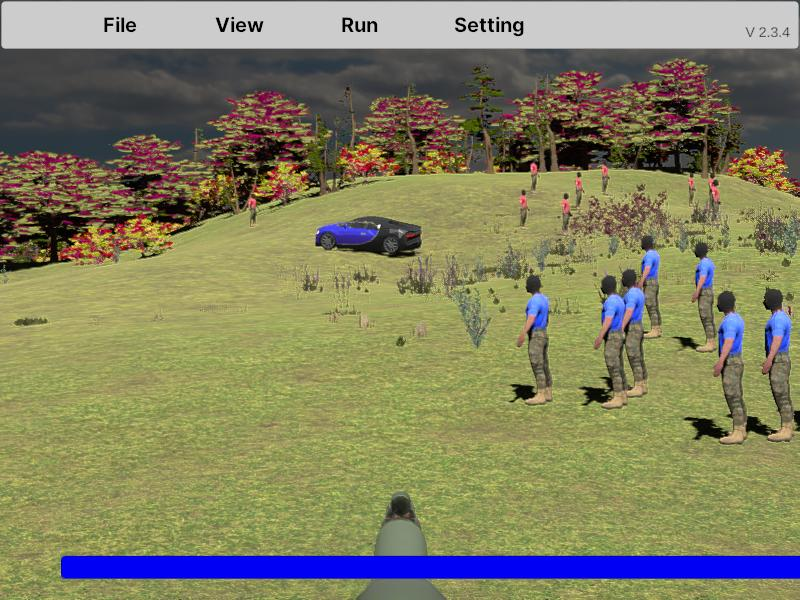Human: (760, 287, 797, 442), (713, 291, 748, 444), (594, 274, 629, 407), (517, 273, 552, 405), (618, 270, 648, 399), (690, 242, 716, 352), (638, 234, 662, 340)
car: (315, 215, 422, 256)
